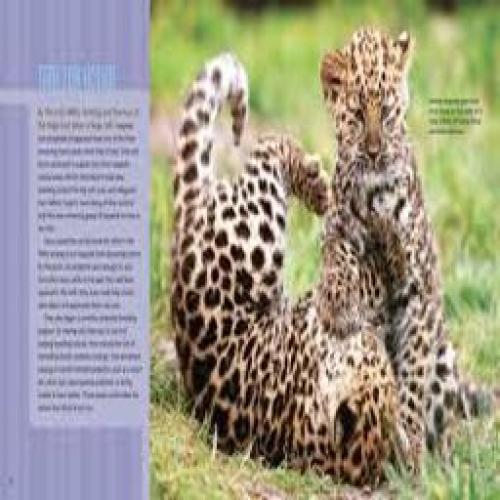amur_leopard-endangered: (166, 54, 400, 487), (320, 30, 486, 460)
